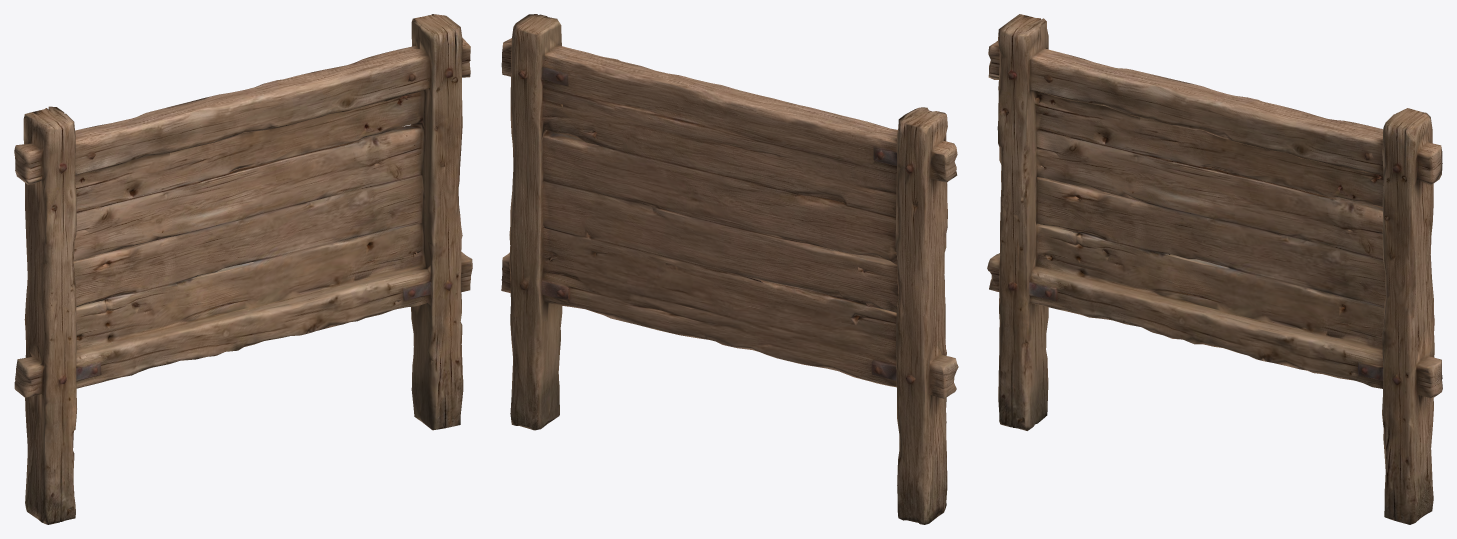
File: signboard_blank.glb
3 renders of one model, left to right at view 1: azimuth 30°, elevation 25°; view 2: azimuth 150°, elevation 25°; view 3: azimuth 330°, elevation 25°, orthographic.
Visible parts, largest first — view 1: tripo_node_72b85bc6-6e02-48eb-b2f1-9ba17d81196b; view 2: tripo_node_72b85bc6-6e02-48eb-b2f1-9ba17d81196b; view 3: tripo_node_72b85bc6-6e02-48eb-b2f1-9ba17d81196b.
Boxes of the visible parts, x1,y1,x2,y2 form: tripo_node_72b85bc6-6e02-48eb-b2f1-9ba17d81196b: (14, 14, 472, 524); tripo_node_72b85bc6-6e02-48eb-b2f1-9ba17d81196b: (501, 14, 958, 524); tripo_node_72b85bc6-6e02-48eb-b2f1-9ba17d81196b: (987, 14, 1442, 524).
Size of the model in its own units: 1 by 0.8489 by 0.1039.
1 material, 1 textured.
